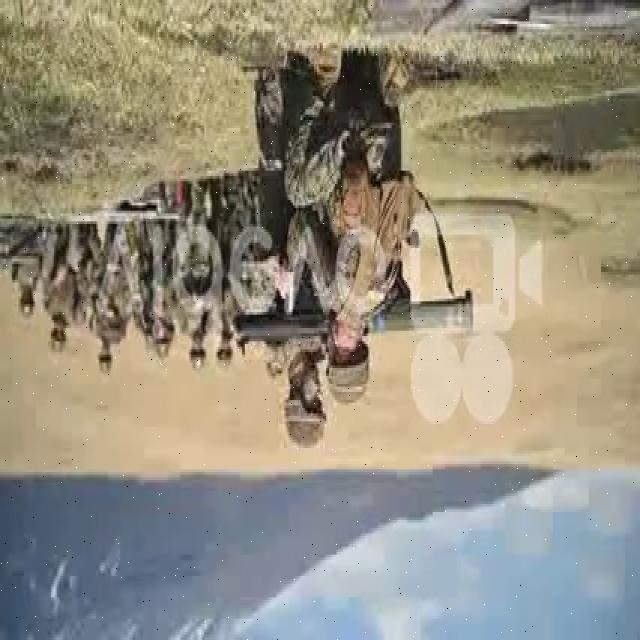bazooka: (229, 282, 478, 359)
